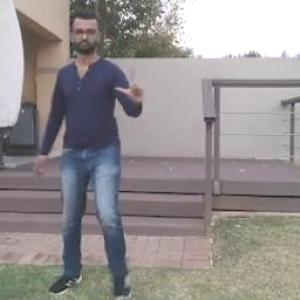land_hand: (109, 70, 145, 116)
